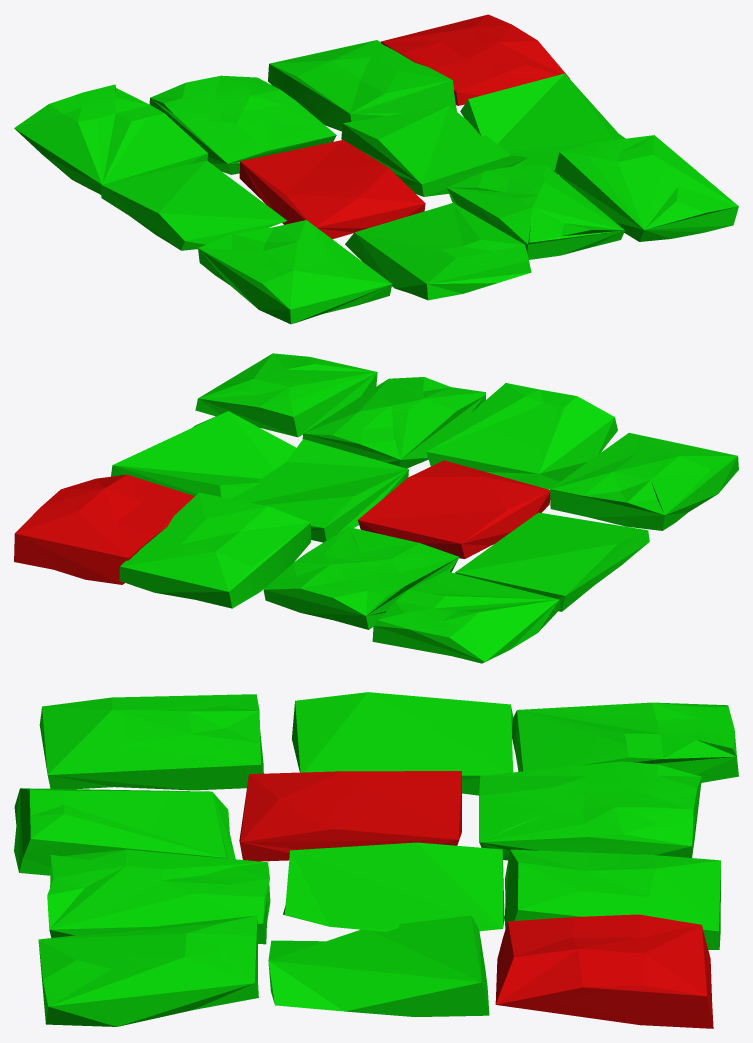
The model's file is Cobblestone_01.fbx.
3 views of the same model, one above another, from view 1: azimuth 30°, elevation 25°; view 2: azimuth 150°, elevation 25°; view 3: azimuth 270°, elevation 25° (orthographic). The views are drawn at different scales.
Visible parts, largest first — view 1: Plane.004; view 2: Plane.004; view 3: Plane.004.
Boxes of the visible parts, x1,y1,x2,y2 form: Plane.004: (14,14,738,324); Plane.004: (14,353,738,663); Plane.004: (14,692,738,1028).
Bounding box in the file's own units: 203 × 18.15 × 207.
